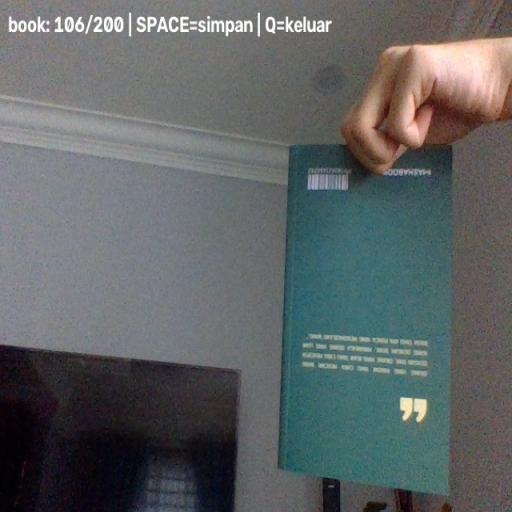Book: (277, 143, 454, 497)
